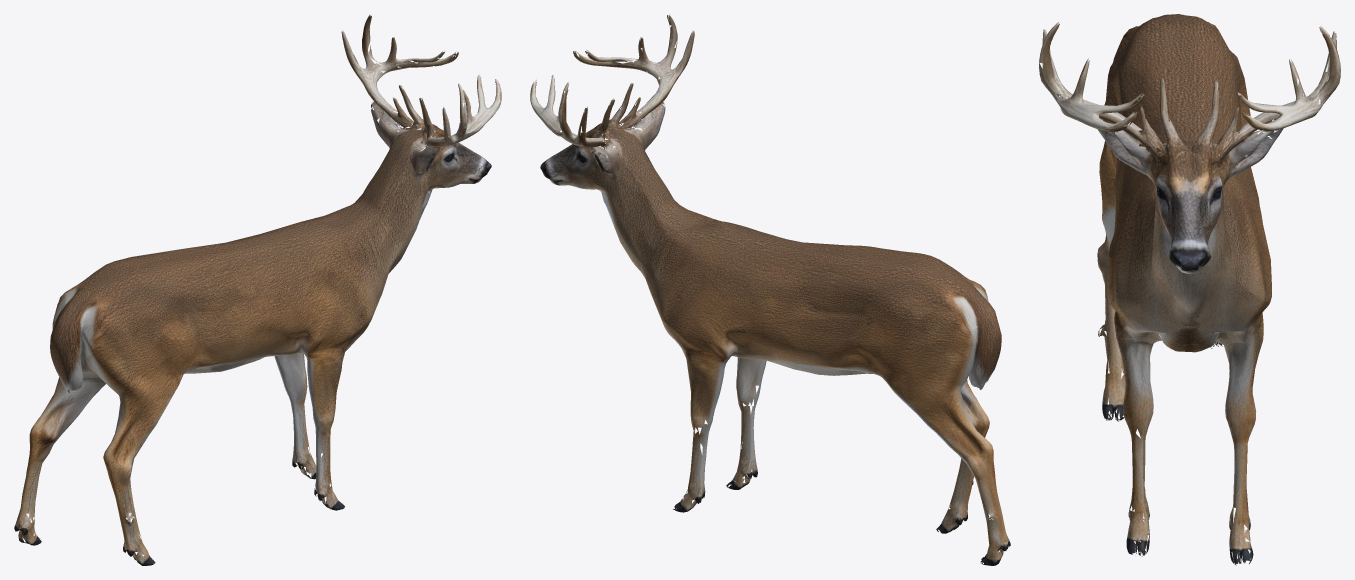
The model's file is deer.glb.
3 views of the same model, side by side, from view 1: azimuth 30°, elevation 25°; view 2: azimuth 150°, elevation 25°; view 3: azimuth 270°, elevation 25° (orthographic). The views are drawn at different scales.
Visible parts, largest first — view 1: tripo_node_f5a904a2_1; view 2: tripo_node_f5a904a2_1; view 3: tripo_node_f5a904a2_1.
Part boxes in pixels (x1,y1,x2,y2): tripo_node_f5a904a2_1: (14, 15, 501, 565); tripo_node_f5a904a2_1: (530, 14, 1010, 565); tripo_node_f5a904a2_1: (1039, 14, 1340, 565).
Size of the model in its own units: 1.9 by 1.65 by 0.7567.
Materials: 1 (1 with a texture image).
